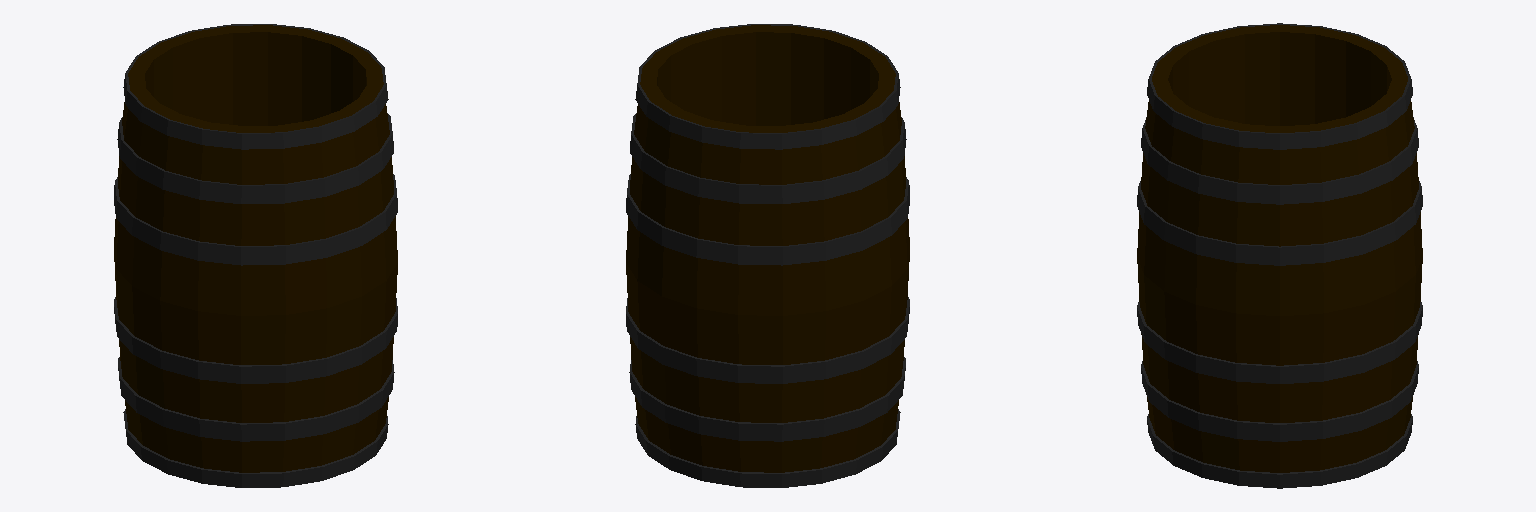
File: BarrelObj.obj
The picture shows the model from 3 angles: view 1: azimuth 30°, elevation 25°; view 2: azimuth 150°, elevation 25°; view 3: azimuth 270°, elevation 25°; orthographic projection.
Visible parts, largest first — view 1: pCylinder1; view 2: pCylinder1; view 3: pCylinder1.
Part boxes in pixels (x1,y1,x2,y2): pCylinder1: (114,24,397,487); pCylinder1: (626,24,909,487); pCylinder1: (1137,23,1422,488).
Size of the model in its own units: 1.97 by 2.69 by 1.97.